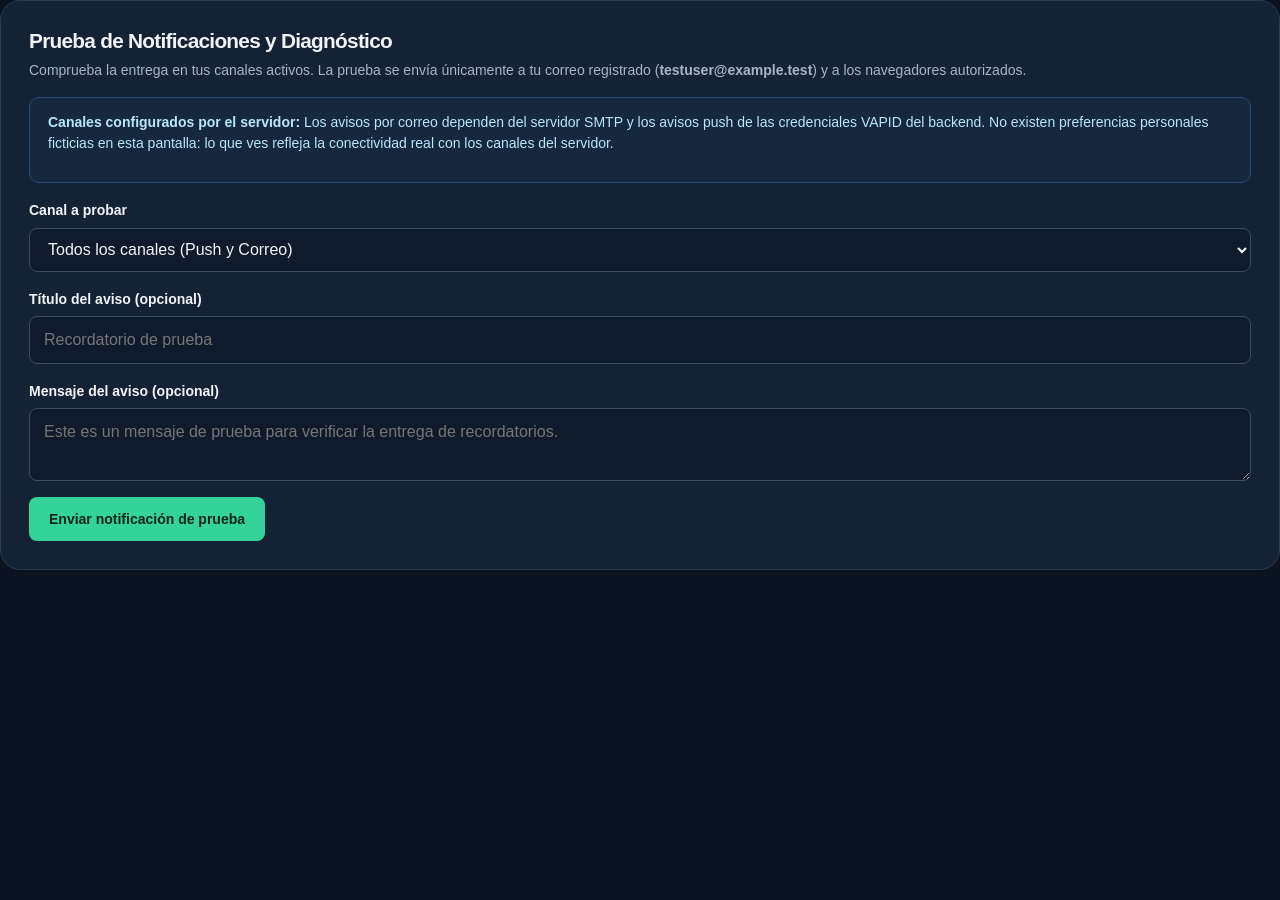
Test case: NotificationTestCard › handles failure when test endpoint returns error
Click the button with test id "send-test-btn": (147,519) top-left (29, 497), bottom-right (265, 541)
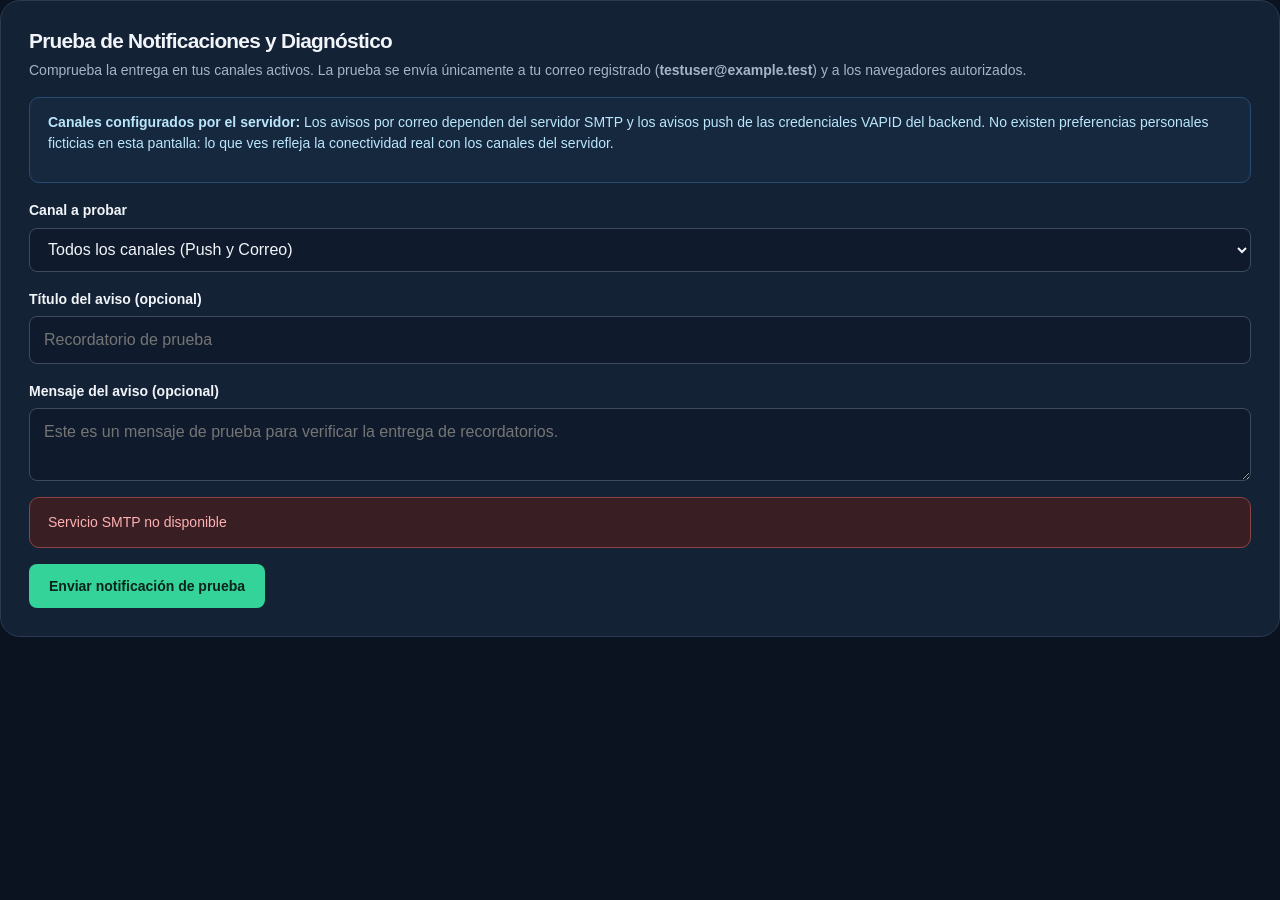
Now the text "Servicio SMTP no disponible" is shown, box top-left (29, 497), bottom-right (1251, 548)
